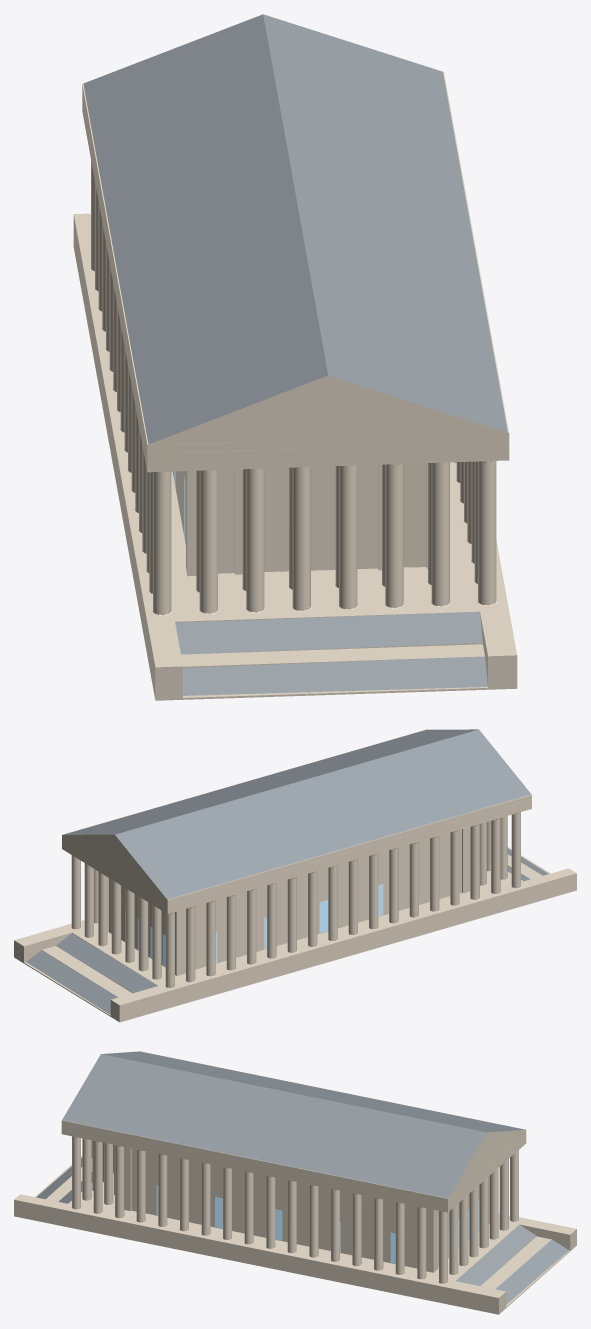
3 renders of one model, top to bottom at view 1: azimuth 30°, elevation 25°; view 2: azimuth 150°, elevation 25°; view 3: azimuth 270°, elevation 25°, orthographic. The views are drawn at different scales.
Parts seen in each view (by area): view 1: roof, stone, trim; view 2: stone, roof, trim, window; view 3: stone, roof, trim, window.
Boxes of the visible parts, <box> form: roof: <box>83,14,507,695</box>; stone: <box>73,85,517,700</box>; trim: <box>82,71,508,615</box>; stone: <box>14,795,576,1022</box>; roof: <box>26,729,548,1014</box>; trim: <box>62,729,531,988</box>; window: <box>125,884,383,966</box>; stone: <box>14,1121,576,1314</box>; roof: <box>36,1051,568,1304</box>; trim: <box>61,1051,526,1284</box>; window: <box>156,1185,479,1263</box>.
Size of the model in its own units: 94.68 by 36.2 by 134.
